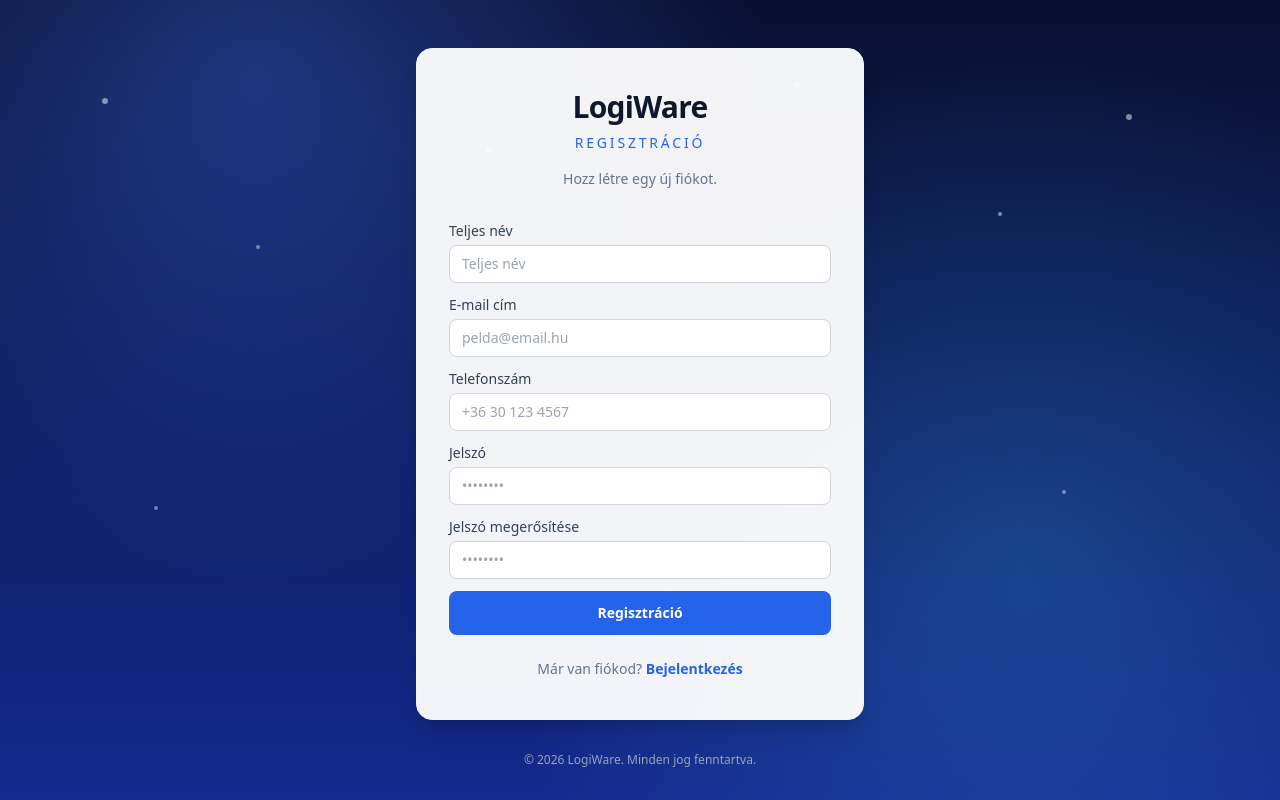
Scenario: shows invalid email error for no-dot domain email
Type "Teszt Elek" into the field labelled "Teljes név" at (640, 264), box [449,245,831,283]
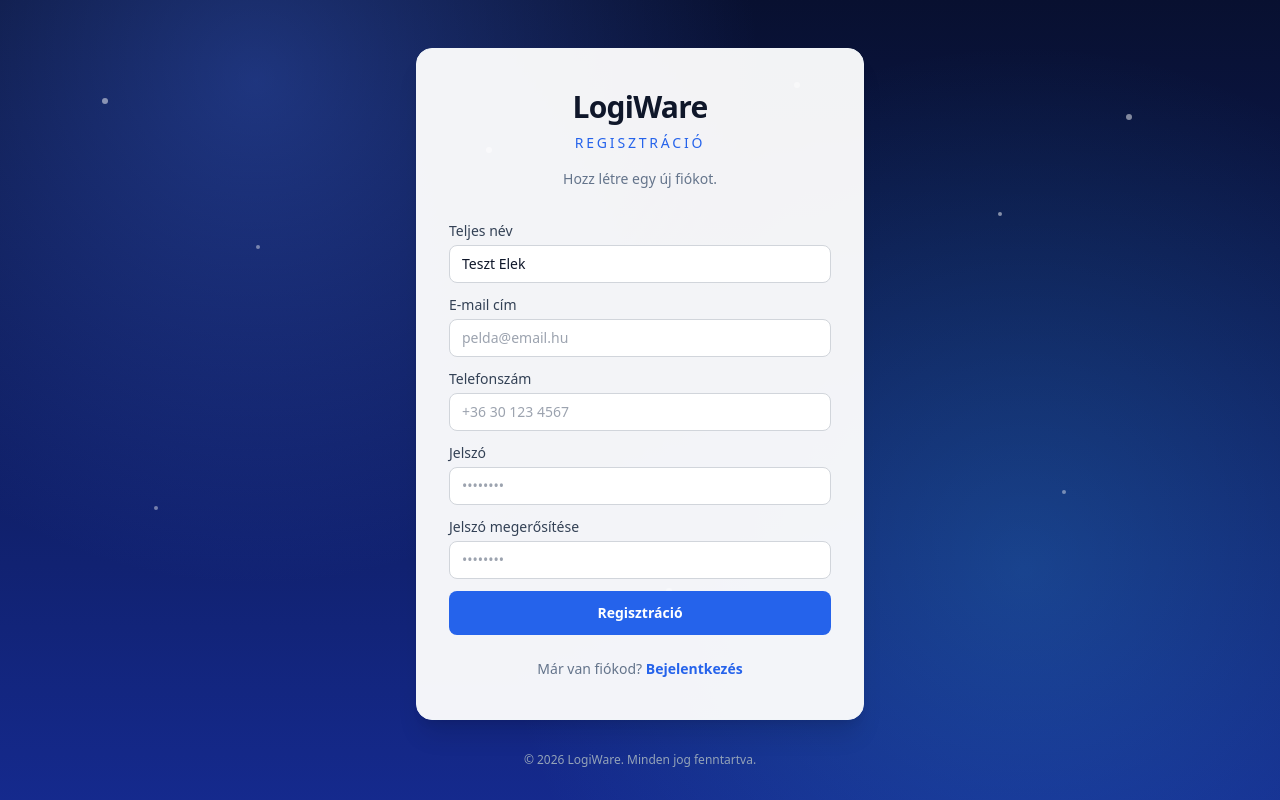
Type "user@localhost" into the field labelled "E-mail cím" at (640, 338), box [449,319,831,357]
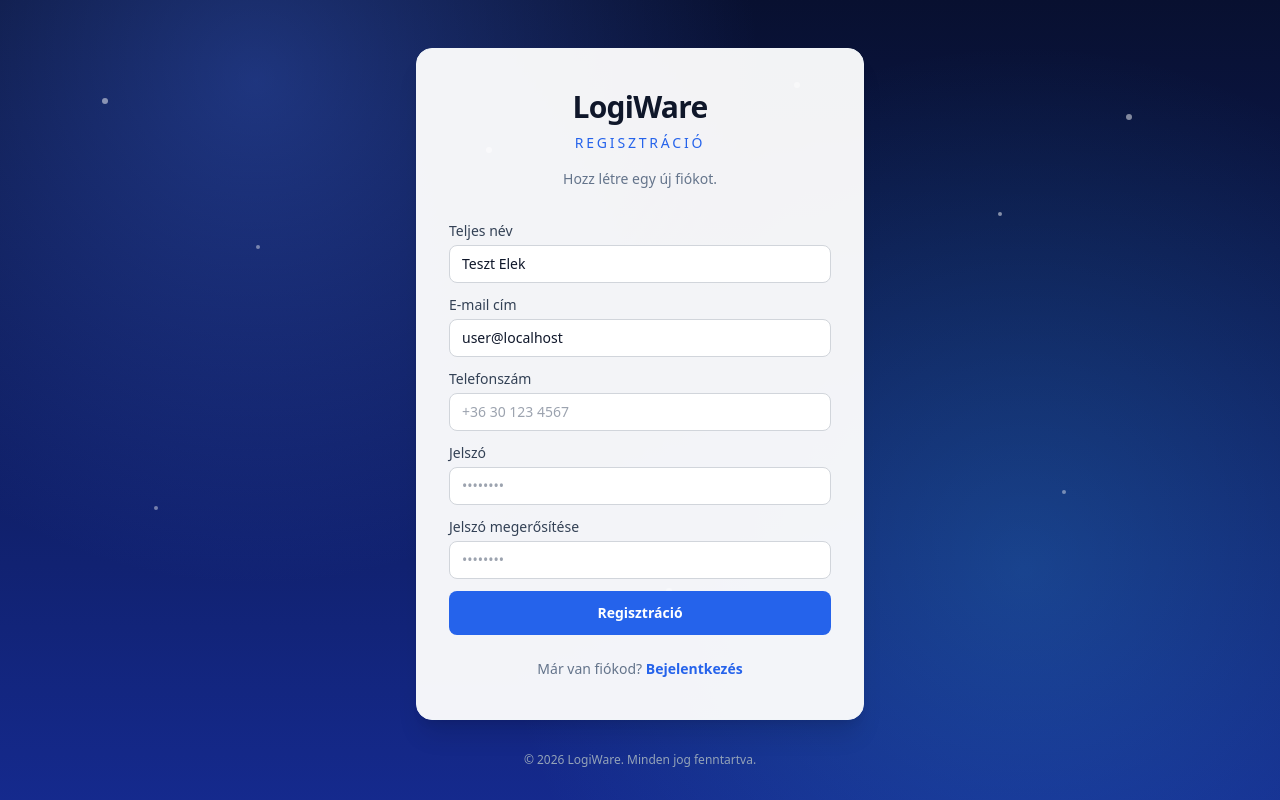
Type "+36301234567" into the field labelled "Telefonszám" at (640, 412), box [449,393,831,431]
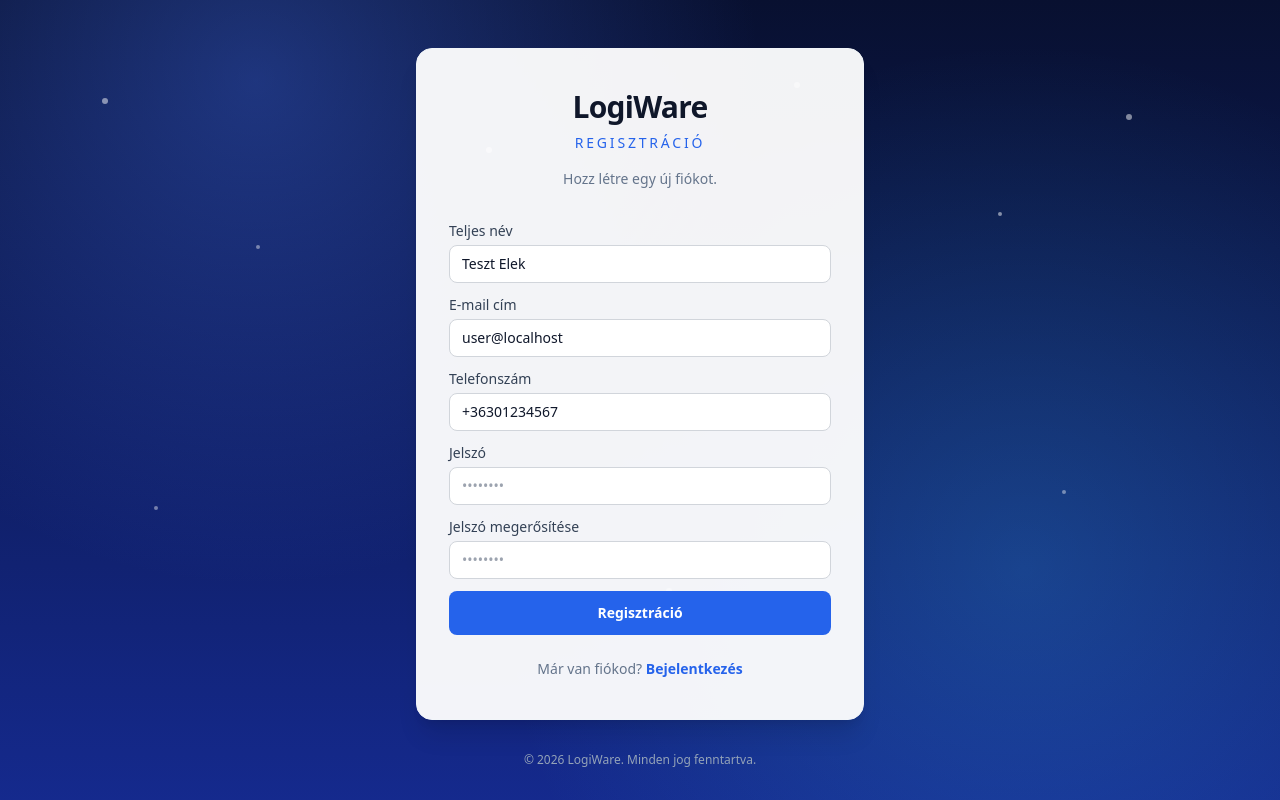
Type "pass123" into the password field labelled "Jelszó" at (640, 486), box [449,467,831,505]
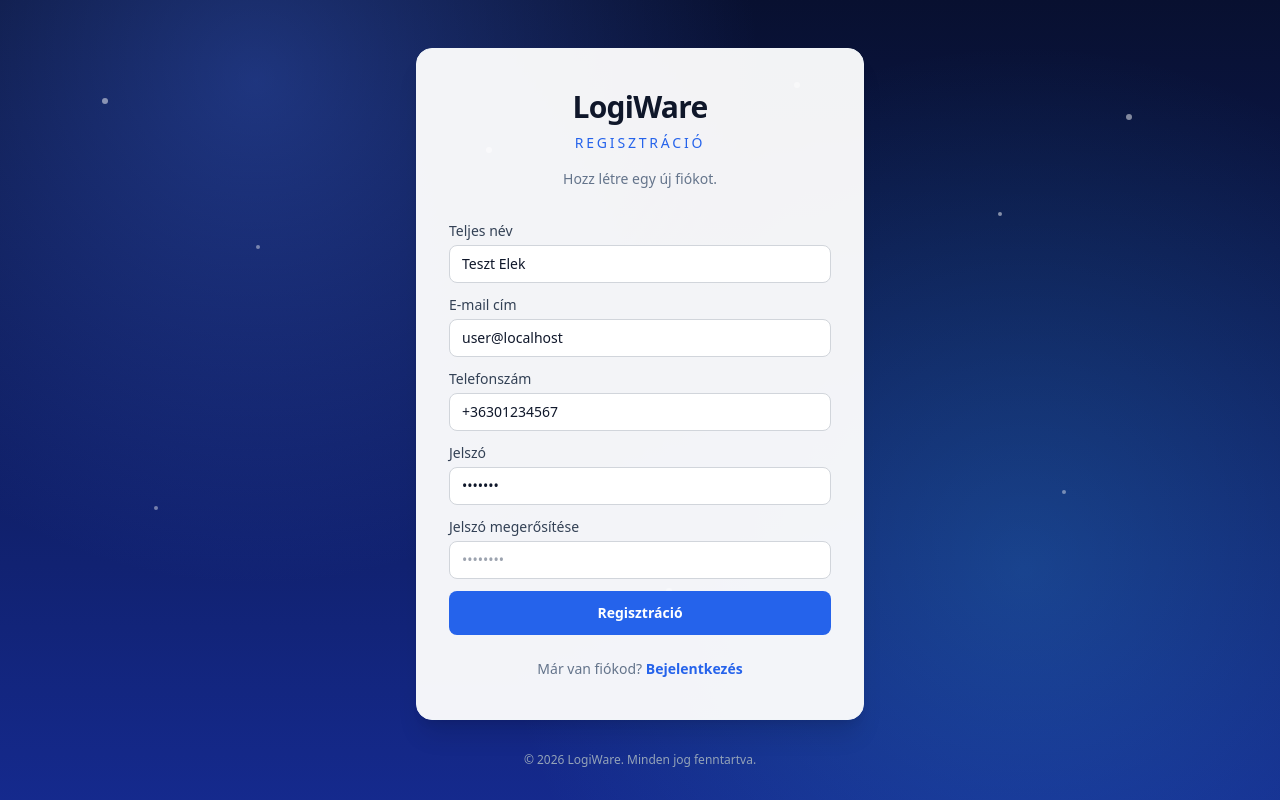
Type "pass123" into the password field labelled "Jelszó megerősítése" at (640, 560), box [449,541,831,579]
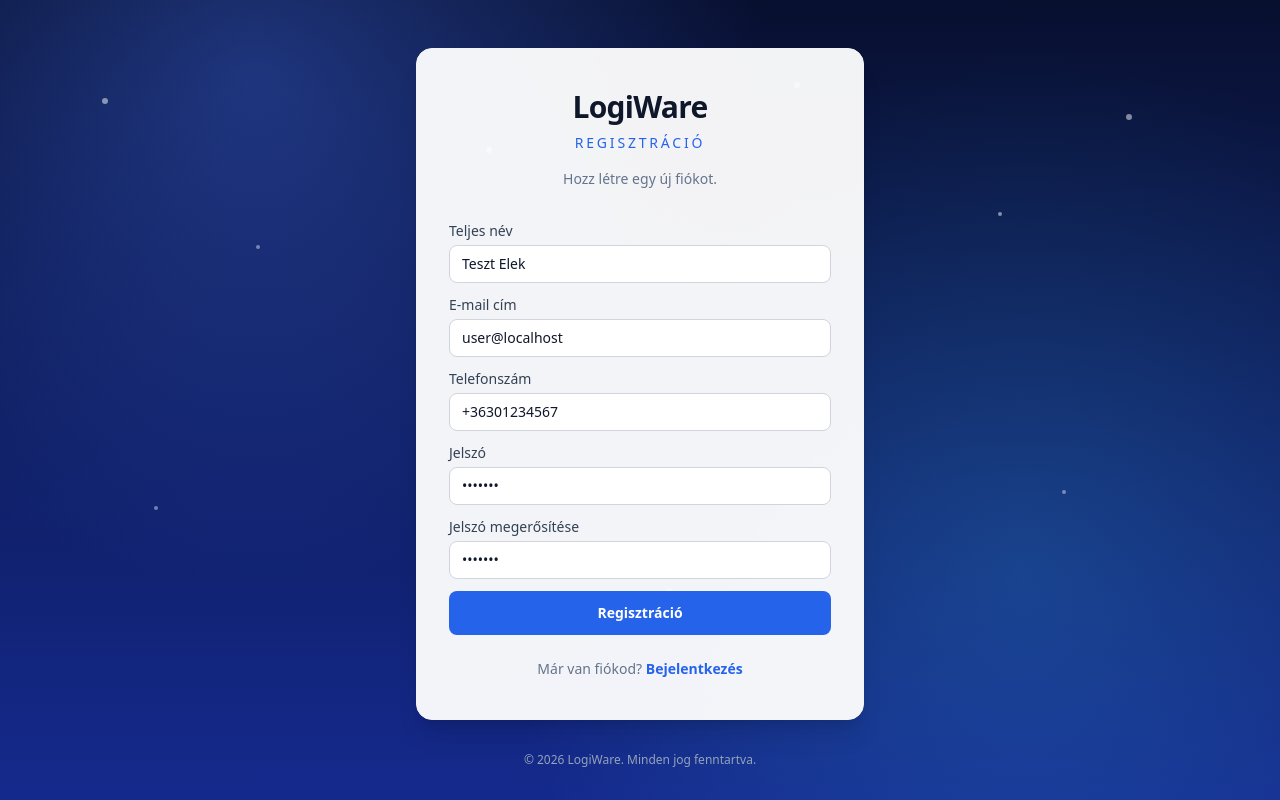
Submit the form, box [449,221,831,635]
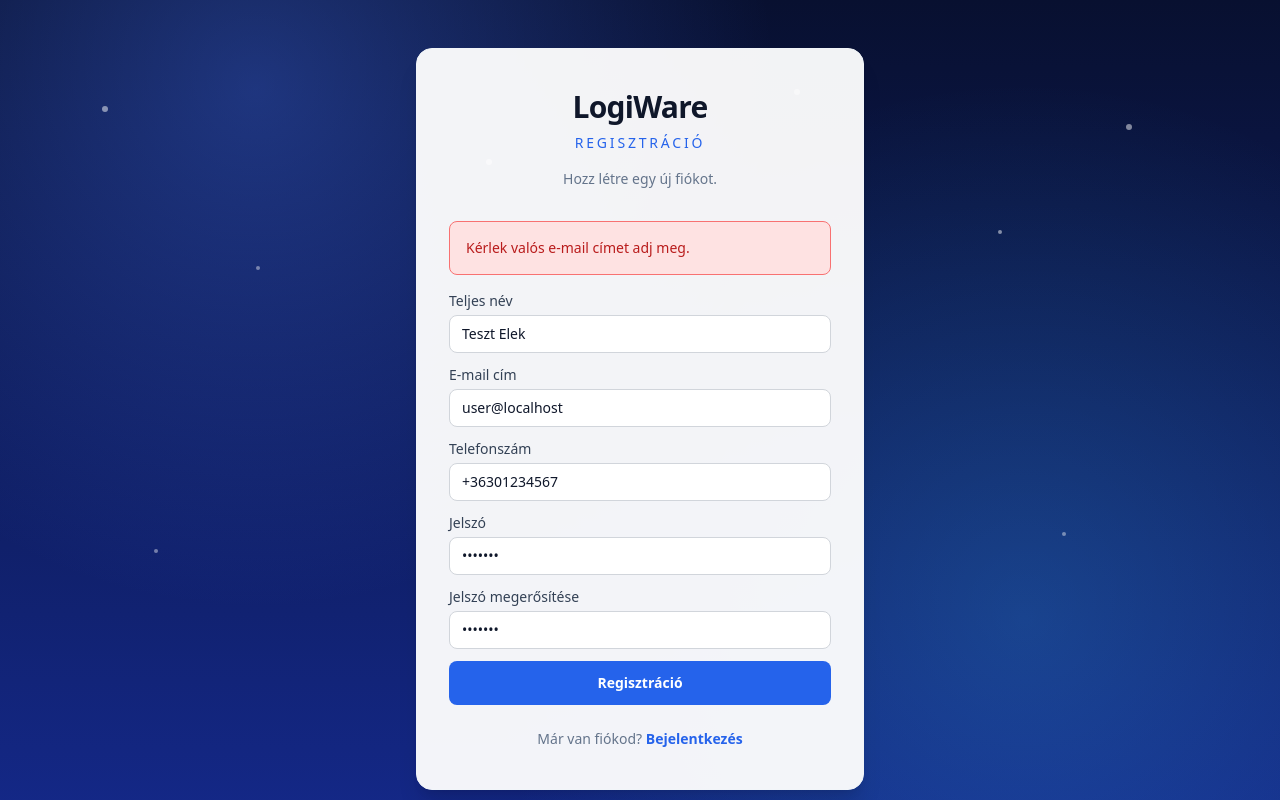
Result: the text "Kérlek valós e‑mail címet adj meg." is shown at [449,221,831,275]
